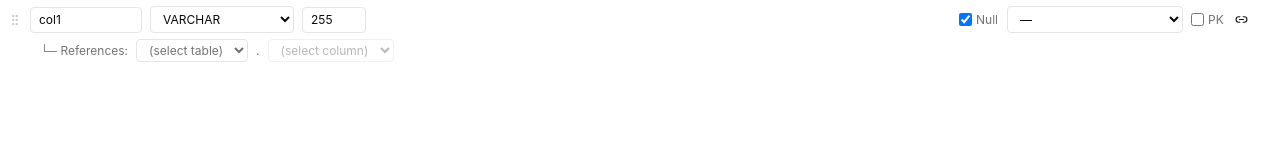
FK section render › shows fkError text when there is an error
This screenshot has width=1265, height=160.
Select "users" in the 3rd dropdown showing "(select table)". click: coordinates (192, 50)
box: top-left (136, 39), bottom-right (248, 62)
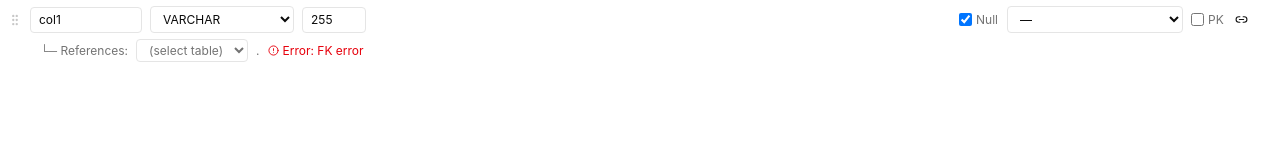
Expected: the text "Error: FK error" is shown, top-left (268, 42), bottom-right (364, 58)
